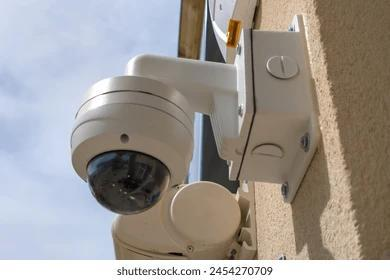360-Cam: (63, 73, 201, 220)
